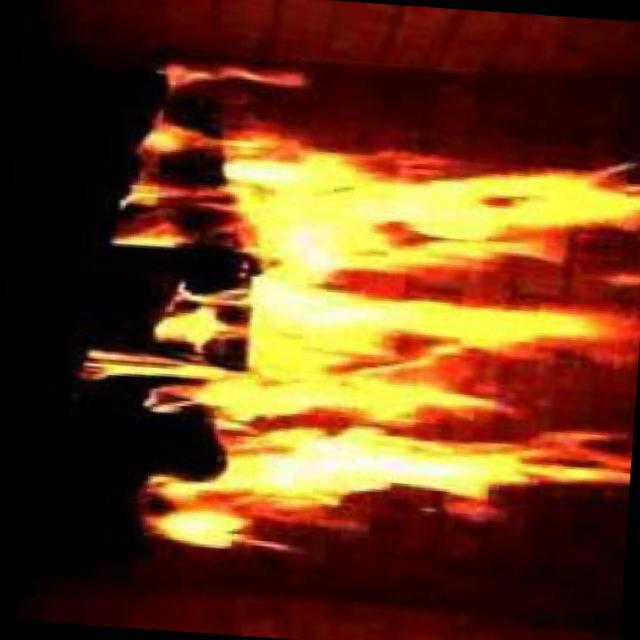Fire: (147, 136, 624, 566)
